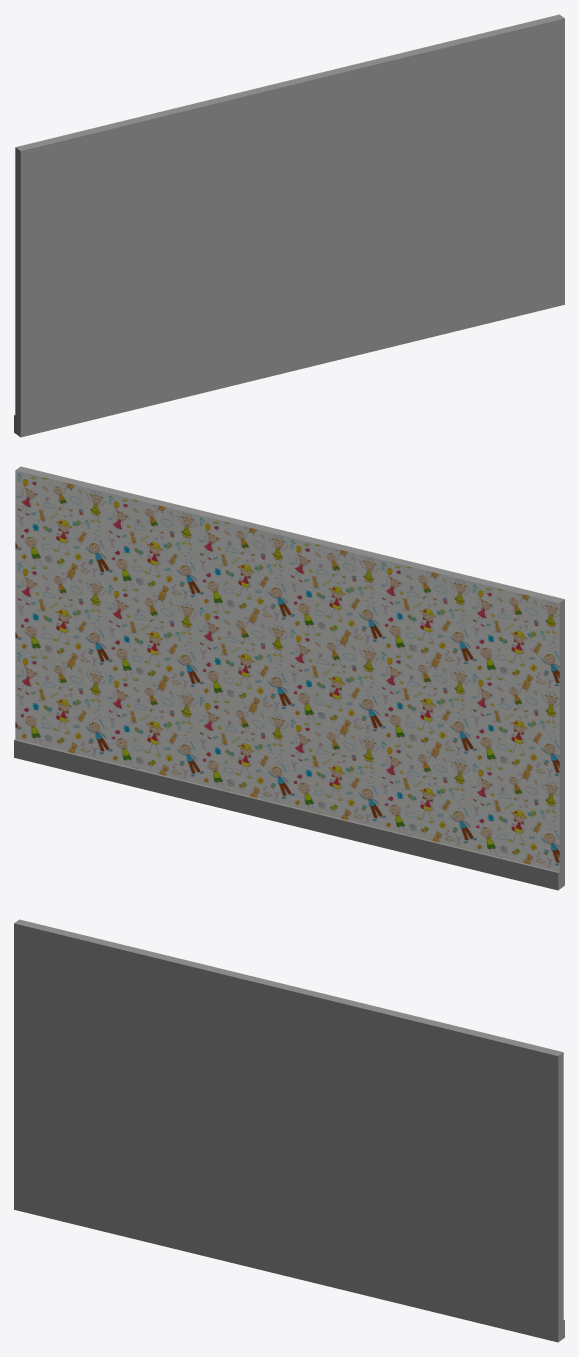
The model's file is Wall 1.FBX.
3 views of the same model, one above another, from view 1: azimuth 30°, elevation 25°; view 2: azimuth 150°, elevation 25°; view 3: azimuth 330°, elevation 25° (orthographic).
Parts seen in each view (by area): view 1: Wall 1; view 2: Wall 1; view 3: Wall 1.
Part boxes in pixels (x1=…): Wall 1: x1=14, y1=14, x2=564, y2=437; Wall 1: x1=14, y1=466, x2=564, y2=890; Wall 1: x1=14, y1=919, x2=564, y2=1342.
Bounding box in the file's own units: 519 × 261 × 11.22.
2 materials, 1 textured.
